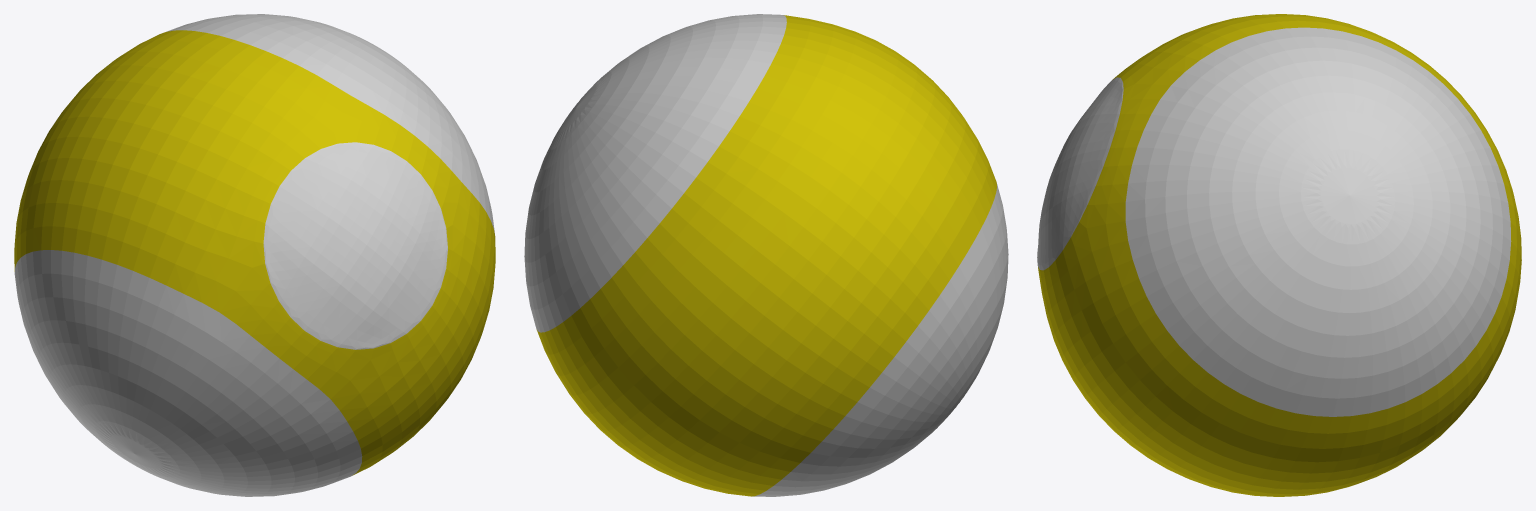
Rendered from 6_ball.obj.
The picture shows the model from 3 angles, left to right: view 1: azimuth 30°, elevation 25°; view 2: azimuth 150°, elevation 25°; view 3: azimuth 270°, elevation 25°; orthographic projection.
Visible parts, largest first — view 1: Stripe.007; view 2: Stripe.007; view 3: Stripe.007.
Part boxes in pixels (left/top/right/bottom): Stripe.007: left=14, top=14, right=495, bottom=496; Stripe.007: left=524, top=14, right=1008, bottom=496; Stripe.007: left=1037, top=14, right=1521, bottom=496.
Size of the model in its own units: 0.0788 by 0.0787 by 0.0788.
